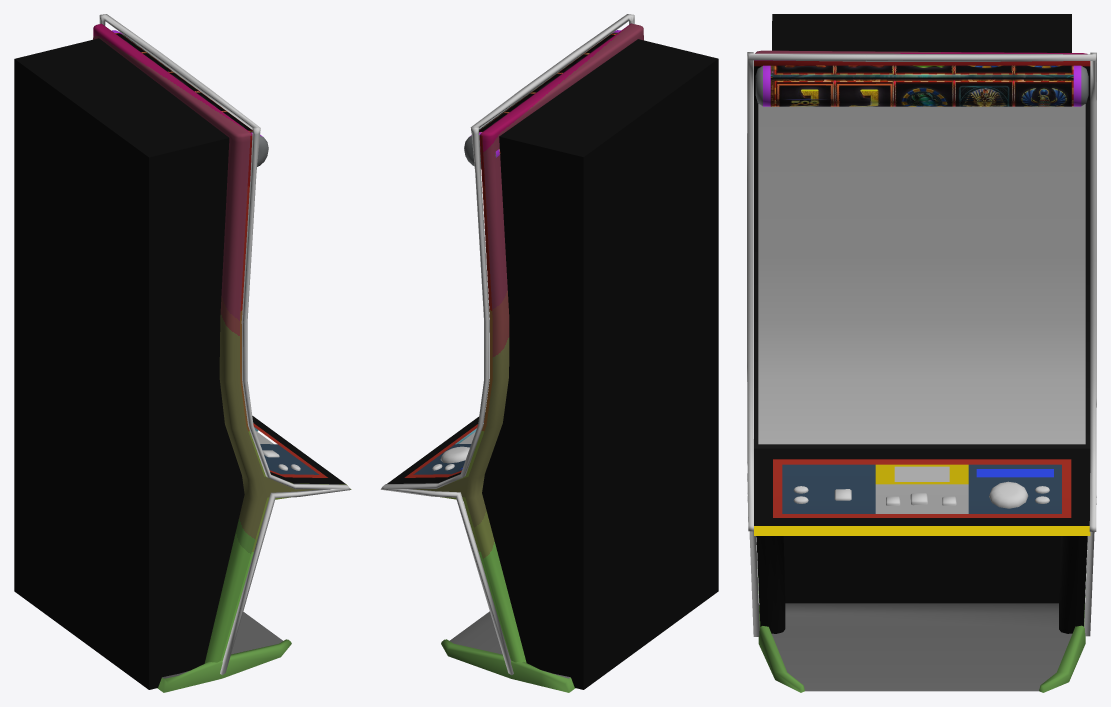
The model's file is SlotMachine_01.fbx.
The picture shows the model from 3 angles, left to right: view 1: azimuth 30°, elevation 25°; view 2: azimuth 150°, elevation 25°; view 3: azimuth 270°, elevation 25°; orthographic projection. The views are drawn at different scales.
Parts seen in each view (by area): view 1: SlothMachine, UVHighlight; view 2: SlothMachine, UVHighlight; view 3: SlothMachine, UVHighlight.
Part boxes in pixels (left/top/right/bottom): SlothMachine: left=14, top=23, right=351, bottom=692; UVHighlight: left=99, top=14, right=350, bottom=675; SlothMachine: left=387, top=23, right=718, bottom=692; UVHighlight: left=380, top=14, right=634, bottom=675; SlothMachine: left=754, top=14, right=1090, bottom=692; UVHighlight: left=747, top=52, right=1096, bottom=636.
Size of the model in its own units: 98.39 by 264 by 138.
